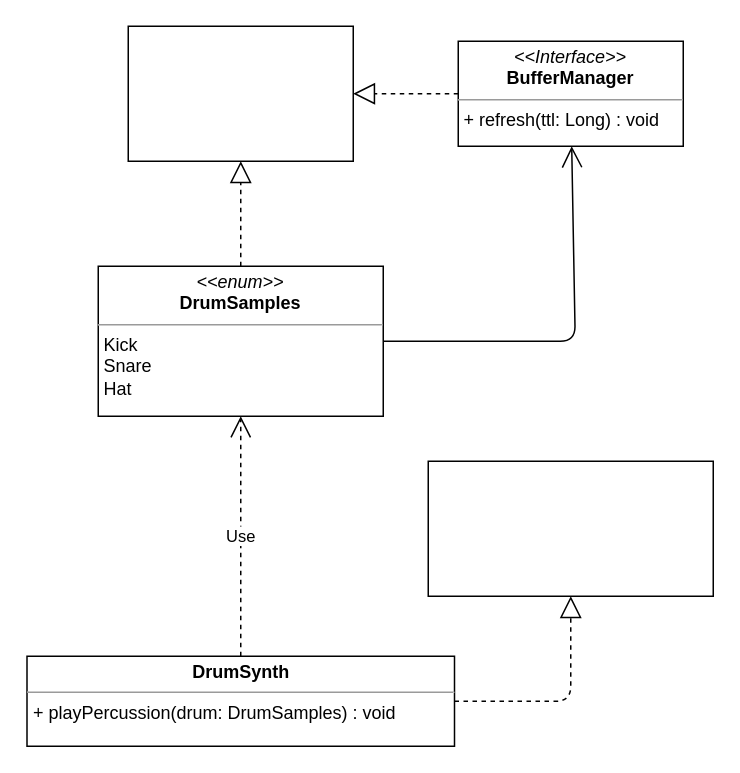
This 740x773 diagram has some shape labels left out. The box of each missing label's shape, as (x1, y1, x2, y2) in pixels:
<<Interface>> Iterator<Float> + hasNext() : boolean + next() : Float: (127, 25, 353, 161)
<<Interface>> Synth + checkKeys() : Integer + getSamples() : Float: (427, 460, 713, 596)
